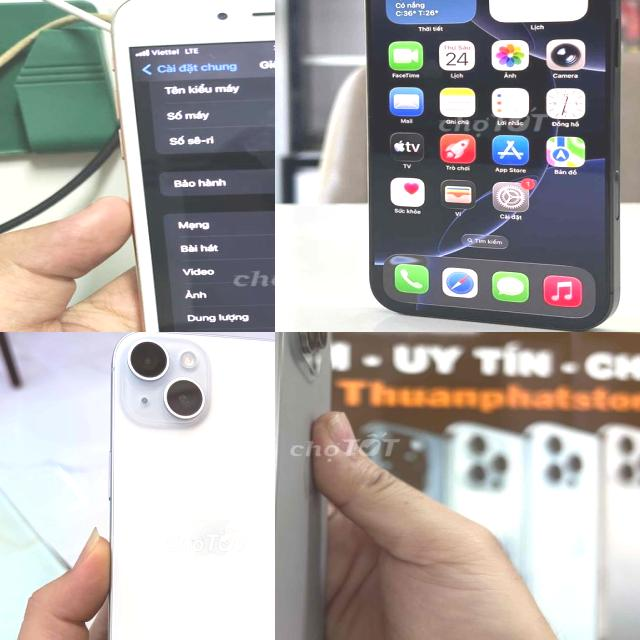gen_15: (87, 332, 275, 640), (275, 332, 342, 640)
gen_16: (365, 0, 620, 330)
gen_7_8: (101, 0, 275, 332)
